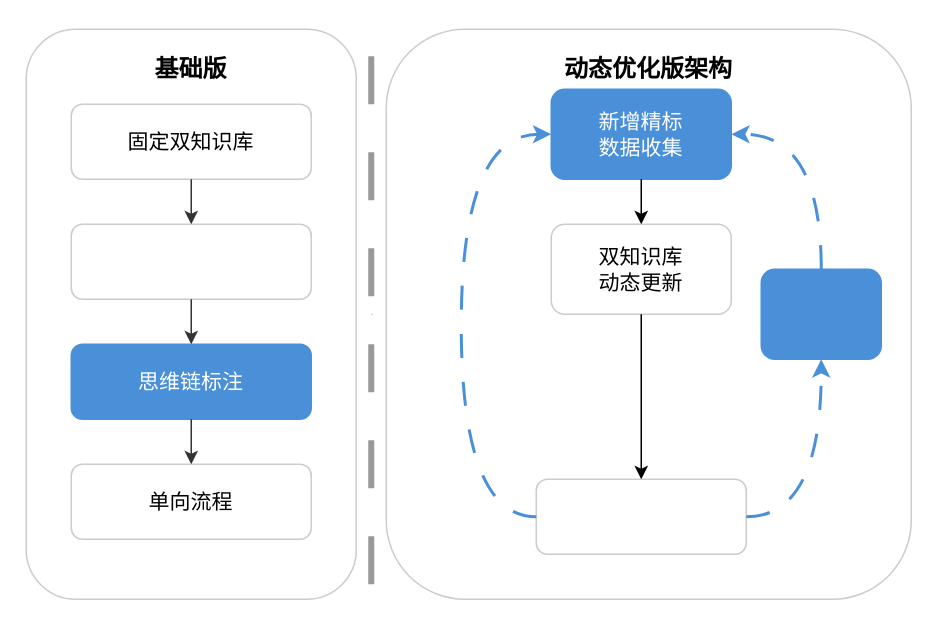
Image size: 938x626. Some labels were removed from this diagram. Each missing label, with the centre of its shape:
"固定尺度规则" goes at (x=190, y=261).
"尺度规则 迭代" goes at (x=820, y=313).
"尺度规则迭代" goes at (x=640, y=516).
